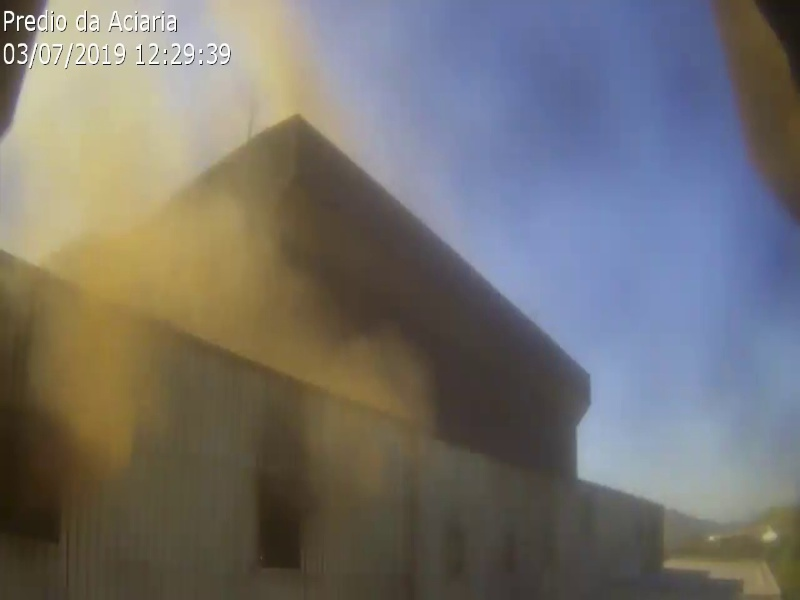Pessimo: (55, 109, 213, 262), (110, 172, 268, 325), (38, 266, 127, 407), (246, 1, 322, 106), (202, 292, 333, 351), (279, 359, 410, 418)
